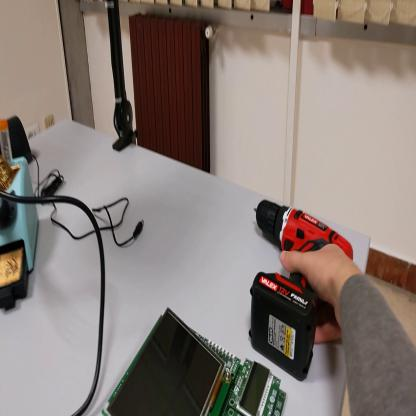electric screwdriver: (250, 196, 353, 382)
hand: (279, 243, 360, 341)
low voltage board: (96, 308, 288, 416)
socket: (6, 118, 35, 166)
welder base: (2, 119, 41, 312)
